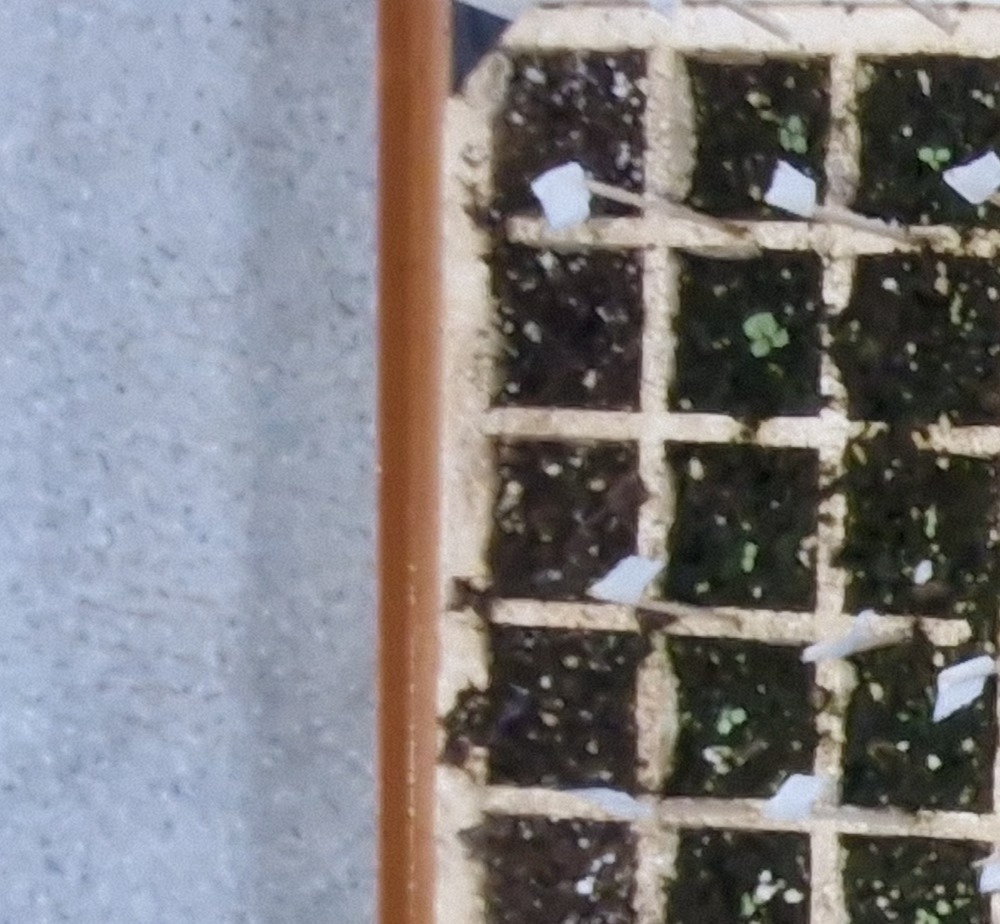Folha: (743, 313, 778, 341), (751, 339, 770, 360), (770, 329, 790, 348), (786, 115, 803, 134), (916, 146, 936, 161), (791, 135, 807, 153), (728, 709, 747, 724), (716, 717, 732, 734), (740, 555, 754, 572), (935, 148, 952, 161), (780, 129, 791, 149), (745, 543, 759, 557), (928, 159, 940, 170), (916, 908, 928, 919), (927, 915, 939, 924)
Germinacao: (744, 312, 791, 357), (780, 115, 809, 152), (715, 708, 748, 735), (917, 147, 951, 169), (742, 542, 757, 572), (918, 908, 940, 924)
